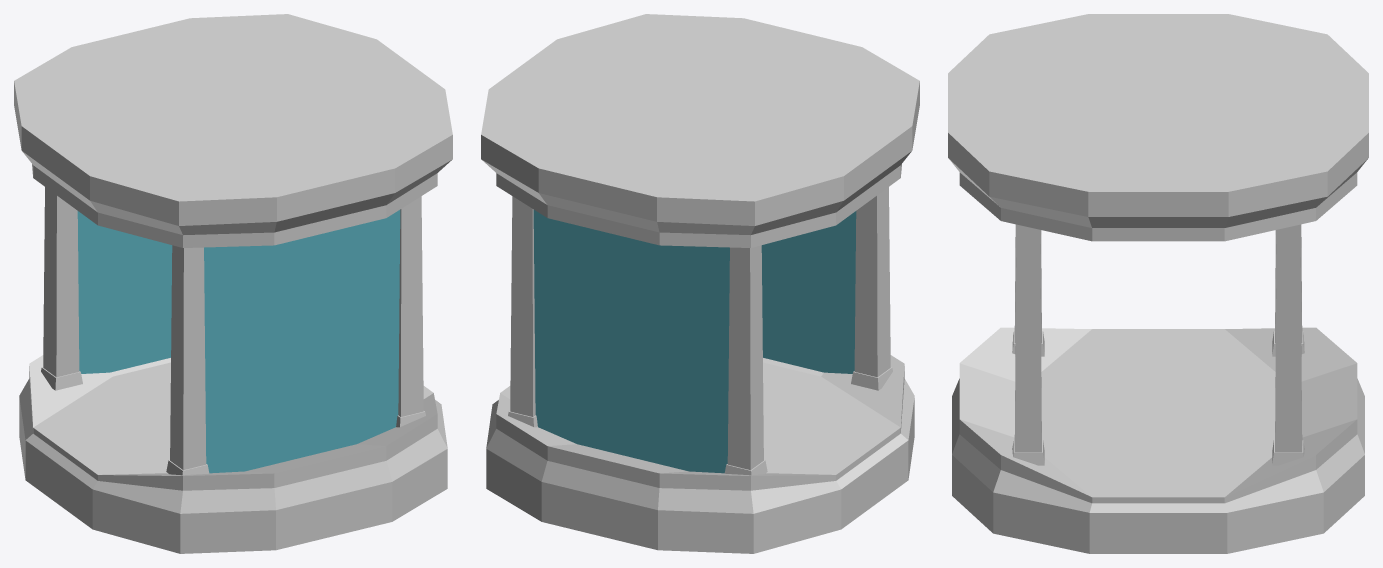
Rendered from container.fbx.
3 renders of one model, left to right at view 1: azimuth 30°, elevation 25°; view 2: azimuth 150°, elevation 25°; view 3: azimuth 270°, elevation 25°, orthographic. The views are drawn at different scales.
Visible parts, largest first — view 1: Cube; view 2: Cube; view 3: Cube.
Part boxes in pixels (x1,y1,x2,y2): Cube: (14, 14, 452, 553); Cube: (481, 14, 919, 553); Cube: (948, 14, 1368, 553).
Bounding box in the file's own units: 611 × 583 × 611.
